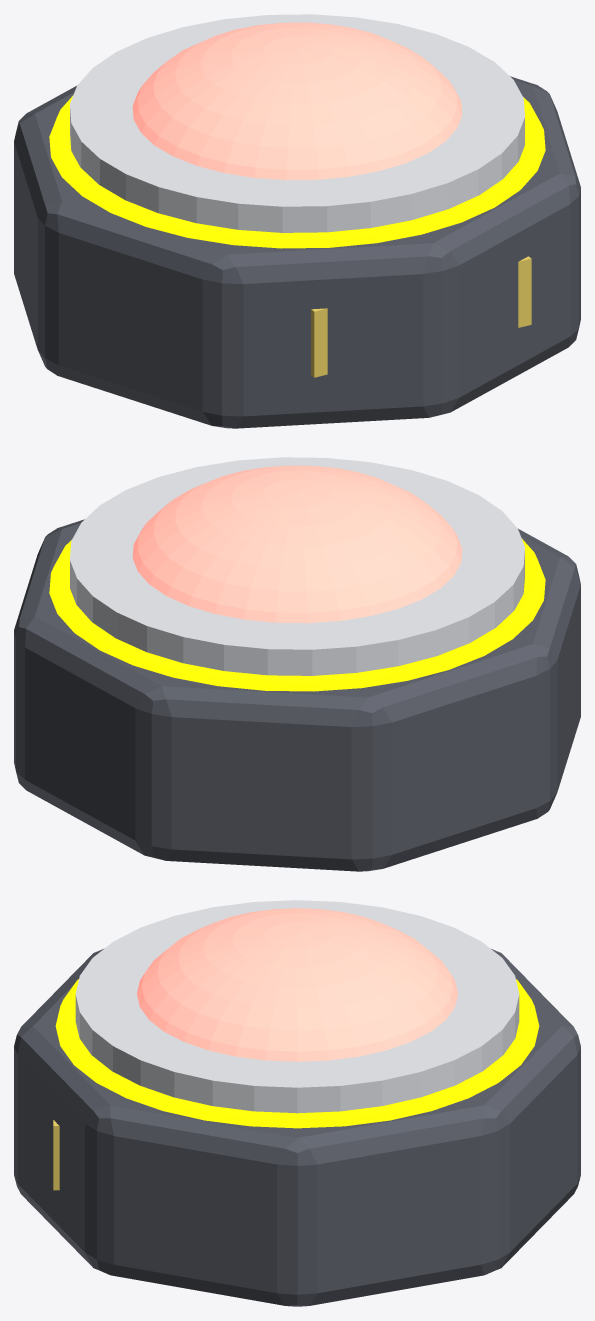
File: FireworksLaunchButton.fbx
3 renders of one model, top to bottom at view 1: azimuth 30°, elevation 25°; view 2: azimuth 150°, elevation 25°; view 3: azimuth 270°, elevation 25°, orthographic. The views are drawn at different scales.
Parts seen in each view (by area): view 1: Button_Chassis, Button_Bezel_Chrome, Button_Dome, Button_Glow_Ring, Button_Label_Plate; view 2: Button_Chassis, Button_Bezel_Chrome, Button_Dome, Button_Glow_Ring; view 3: Button_Chassis, Button_Bezel_Chrome, Button_Dome, Button_Glow_Ring.
Part boxes in pixels (<box>): Button_Chassis: <box>14,76,580,428</box>; Button_Bezel_Chrome: <box>70,14,524,232</box>; Button_Dome: <box>132,22,462,180</box>; Button_Glow_Ring: <box>49,96,545,248</box>; Button_Label_Plate: <box>311,256,531,377</box>; Button_Chassis: <box>14,519,580,871</box>; Button_Bezel_Chrome: <box>70,457,524,675</box>; Button_Dome: <box>132,465,462,623</box>; Button_Glow_Ring: <box>49,539,545,691</box>; Button_Chassis: <box>14,949,580,1306</box>; Button_Bezel_Chrome: <box>75,900,519,1113</box>; Button_Dome: <box>137,908,457,1061</box>; Button_Glow_Ring: <box>55,979,539,1128</box>.
Bounding box in the file's own units: 0.1278 × 0.0649 × 0.1278.
